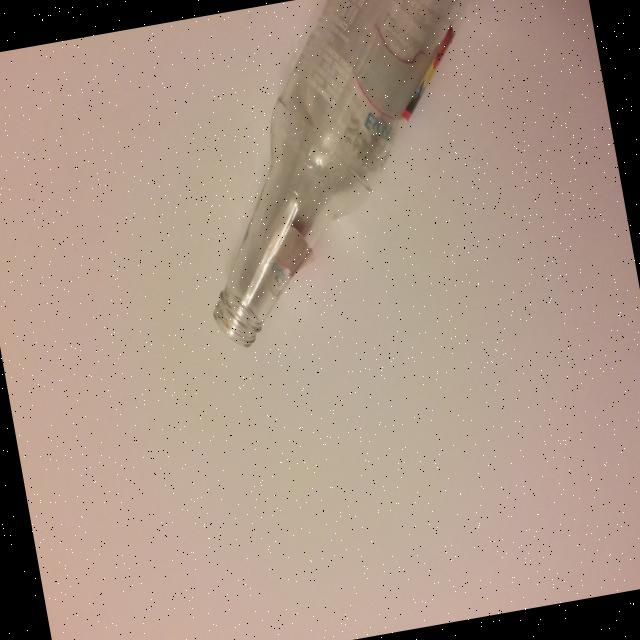glass: (160, 0, 543, 353)
